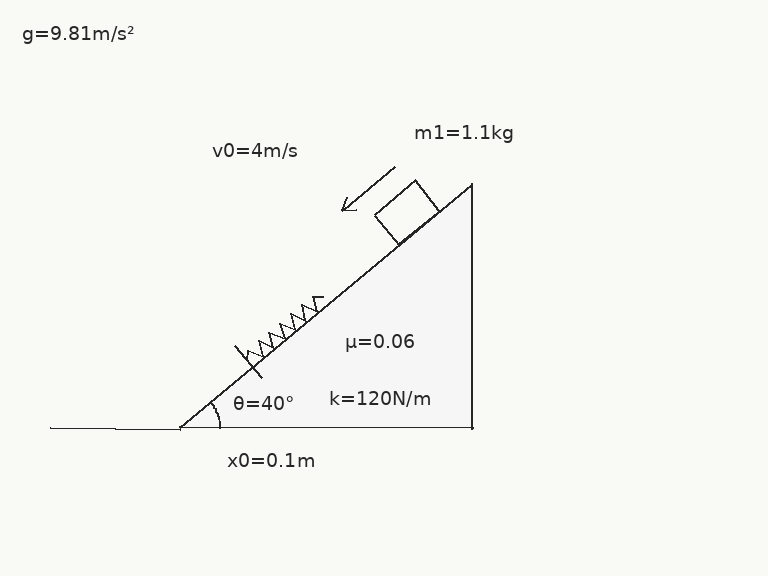block: (371, 178, 441, 247)
ramp: (178, 182, 473, 430)
spring: (245, 294, 325, 362)
